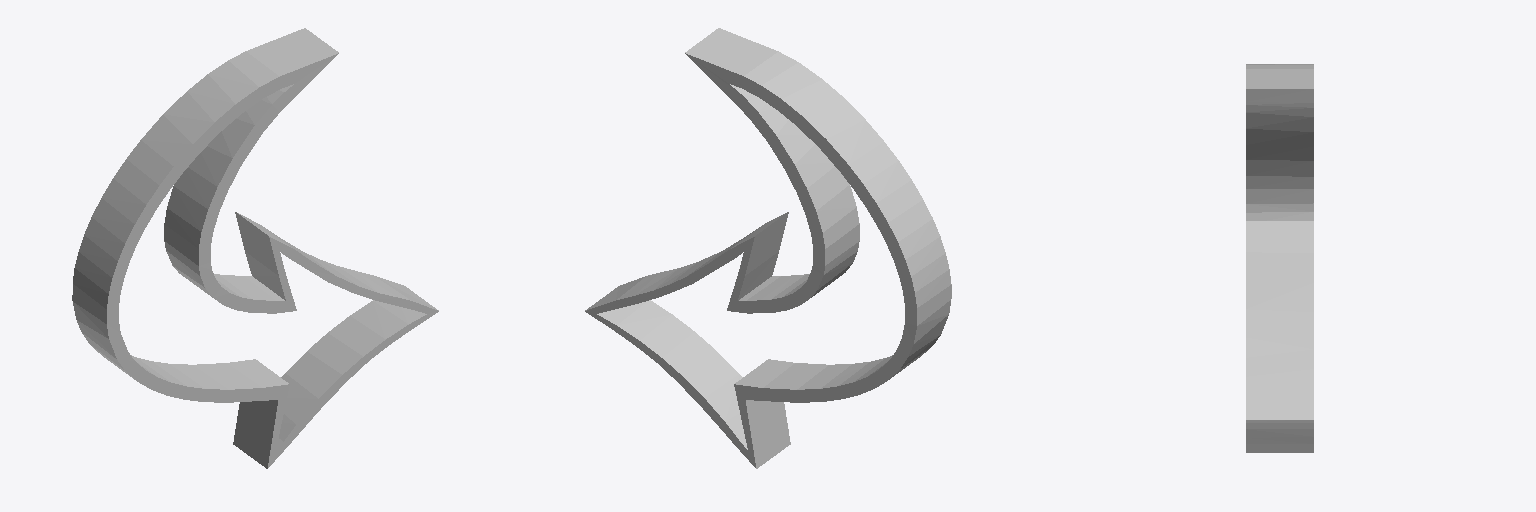
The model's file is Arrow_3.obj.
The picture shows the model from 3 angles: view 1: azimuth 30°, elevation 25°; view 2: azimuth 150°, elevation 25°; view 3: azimuth 270°, elevation 25°; orthographic projection.
Visible parts, largest first — view 1: Arrow_3; view 2: Arrow_3; view 3: Arrow_3.
Boxes of the visible parts, box(x1,y1,x2,y2) form: Arrow_3: box(72, 28, 438, 468); Arrow_3: box(585, 28, 951, 468); Arrow_3: box(1246, 64, 1313, 452).
Bounding box in the file's own units: 2.59 × 2.96 × 0.4632.